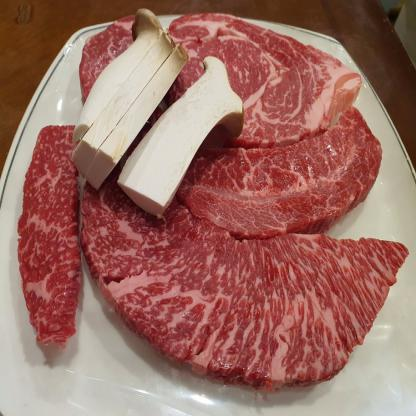beef: (200, 155, 406, 387), (228, 32, 362, 156), (17, 124, 81, 348)
